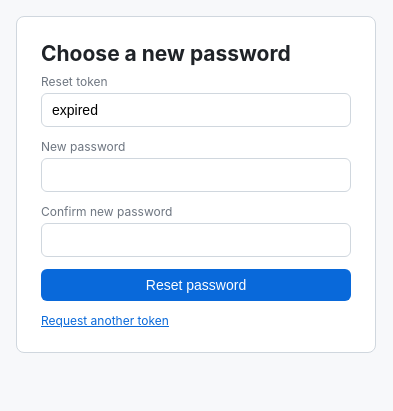
Test: PasswordResetPage › shows an expired-token error without leaving the public route
In the password field labelled "New password": {"x": 196, "y": 175} 41,158 -> 351,192, type "new-password"
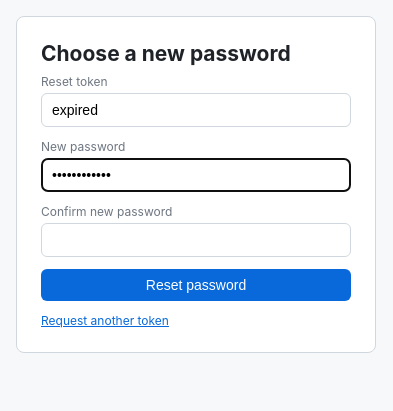
In the password field labelled "Confirm new password": {"x": 196, "y": 240} 41,223 -> 351,257, type "new-password"
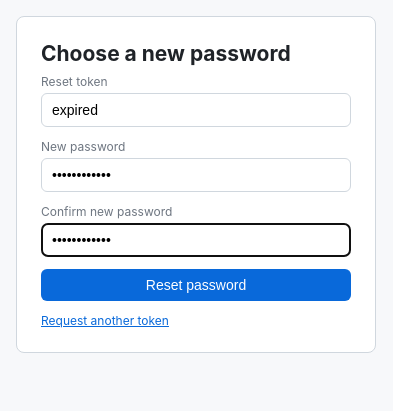
Click the button "Reset password": {"x": 196, "y": 285} 41,269 -> 351,301
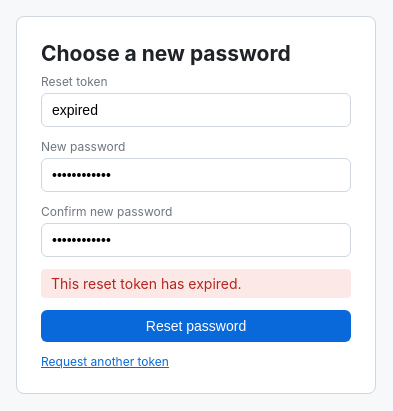
Check: the message reads "This reset token has expired.", box 51,275 -> 242,292
